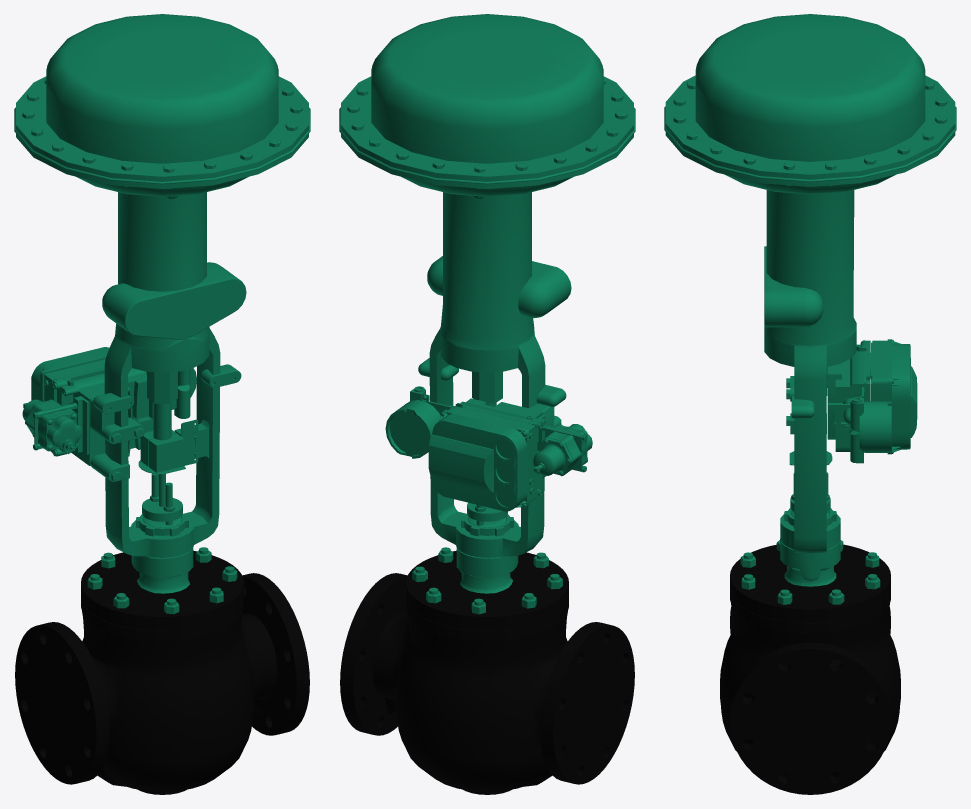
File: moving valve.fbx
3 views of the same model, side by side, from view 1: azimuth 30°, elevation 25°; view 2: azimuth 150°, elevation 25°; view 3: azimuth 270°, elevation 25° (orthographic).
Visible parts, largest first — view 1: flow_control_valve_body, flow_control_valve_stem; view 2: flow_control_valve_body; view 3: flow_control_valve_body.
Boxes of the visible parts, box(x1,y1,x2,y2) form: flow_control_valve_body: box(14, 14, 310, 794); flow_control_valve_stem: box(138, 402, 185, 506); flow_control_valve_body: box(339, 14, 635, 794); flow_control_valve_body: box(664, 14, 956, 794).
Size of the model in its own units: 423 by 1125 by 416.
